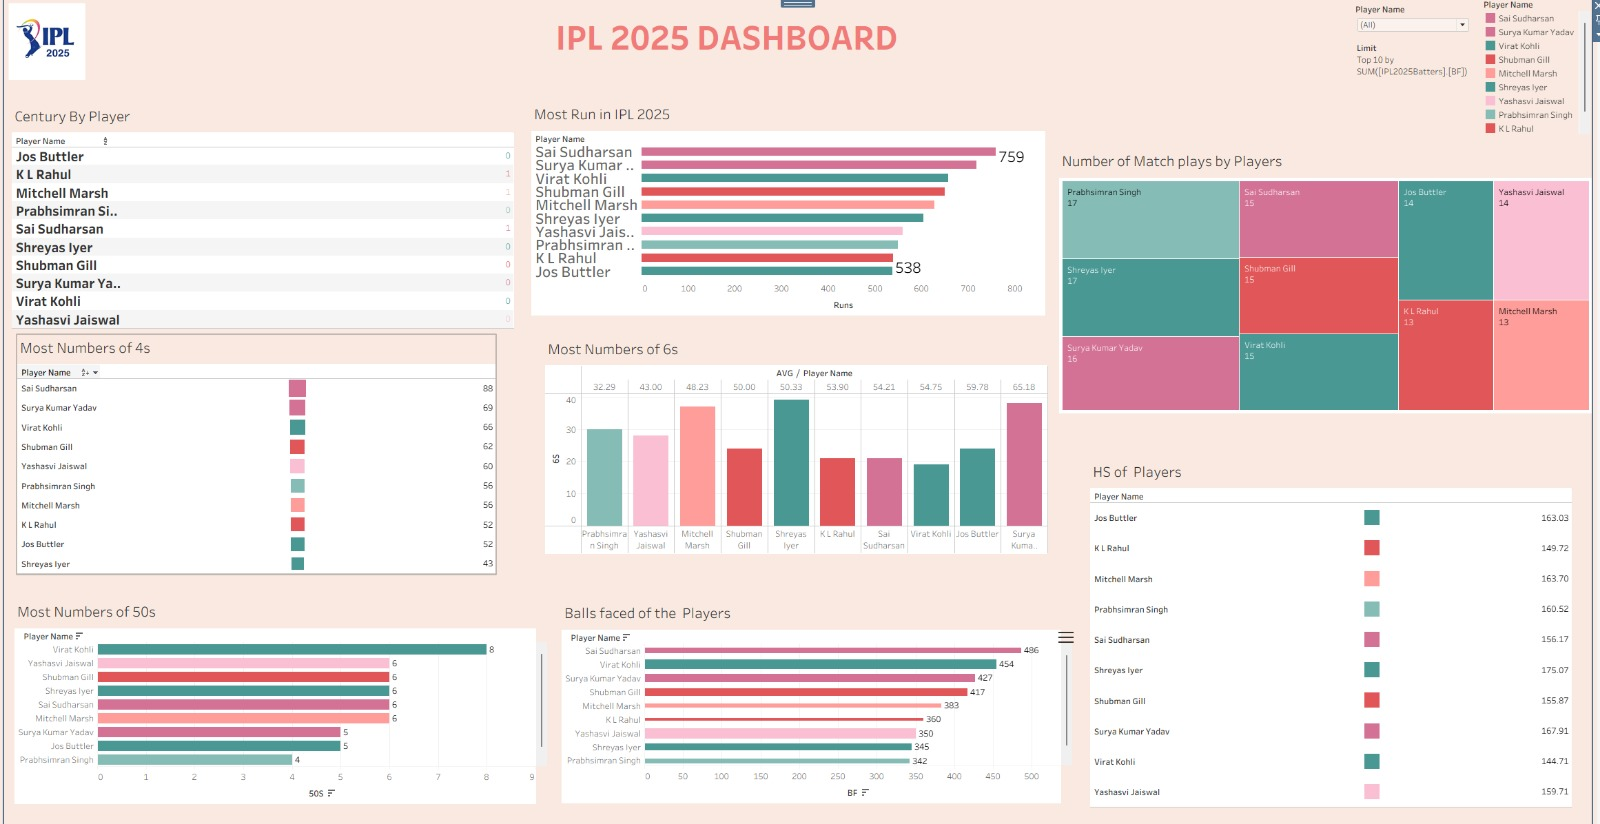

The dashboard page shown, as its layout file describes it:
{"tool":"tableau","page":{"name":"Dashboard 1","canvas":[1000,1000],"units":"permille","ordinal":0},"visuals":[{"type":"legend","title":"Most Run in IPL 2025","param":"[federated.09xfgvh05pprny1dnqr8214v9zg8].[none:Player Name:nk]","box":[928.9,4.9,67.7,161.9]},{"type":"image","param":"C:/Users/Pablo PC/Desktop/Tablue/Indian biggest festival IPL 2025 soon.jpg","box":[6,9.9,85.8,92]},{"type":"filter","title":"Balls faced of the  Players","param":"[federated.09xfgvh05pprny1dnqr8214v9zg8].[none:Player Name:nk]","box":[848.7,10.7,72.4,91.2]},{"type":"title","box":[342.2,19.7,226.3,60]},{"type":"worksheet","title":"Most Run in IPL 2025","mark":"Bar","rows":["Player Name"],"cols":["Runs"],"box":[333.2,127.4,321.6,255.6]},{"type":"worksheet","title":"Century By Player","mark":"Automatic","rows":["Player Name"],"box":[8.2,129.8,314.2,268.7]},{"type":"worksheet","title":"Number of Match plays by Players","mark":"Automatic","box":[663.4,183.2,333.2,316.4]},{"type":"worksheet","title":"Most Numbers of 4s","mark":"Automatic","rows":["Player Name"],"box":[11.6,405.9,299.1,285.1]},{"type":"worksheet","title":"Most Numbers of 6s","mark":"Automatic","rows":["6s"],"cols":["AVG","Player Name"],"box":[341.8,407.6,314.7,259.6]},{"type":"worksheet","title":"HS of  Players","mark":"Square","rows":["Player Name"],"box":[682.8,553.8,301.3,416.6]},{"type":"worksheet","title":"Most Numbers of 50s","mark":"Automatic","rows":["Player Name"],"cols":["50s"],"box":[9.9,720.6,333.2,244.9]},{"type":"worksheet","title":"Balls faced of the  Players","mark":"Automatic","rows":["Player Name"],"cols":["BF"],"box":[352.2,722.3,319.4,242.4]},{"type":"legend","title":"Balls faced of the  Players","param":"[federated.09xfgvh05pprny1dnqr8214v9zg8].[none:Player Name:nk]","box":[674.6,748.6,60.3,179.1]},{"type":"dashboard-object","box":[662.5,756.8,10.3,19.7]}]}

Visuals, with their boxes on the dashboard's canvas, which has no fixed pixel size, in thousandths of its width and height (x1, y1, x2, y2). These are canvas units, not pixel positions in the 1600x824 screenshot, which may show the page scaled, cropped or inside an application window:
"Most Run in IPL 2025" legend: [929,5,997,167]
image: [6,10,92,102]
"Balls faced of the  Players" filter: [849,11,921,102]
title: [342,20,568,80]
"Most Run in IPL 2025" worksheet (Bar marks): [333,127,655,383]
"Century By Player" worksheet: [8,130,322,398]
"Number of Match plays by Players" worksheet: [663,183,997,500]
"Most Numbers of 4s" worksheet: [12,406,311,691]
"Most Numbers of 6s" worksheet: [342,408,656,667]
"HS of  Players" worksheet (Square marks): [683,554,984,970]
"Most Numbers of 50s" worksheet: [10,721,343,966]
"Balls faced of the  Players" worksheet: [352,722,672,965]
"Balls faced of the  Players" legend: [675,749,735,928]
dashboard-object: [662,757,673,776]
